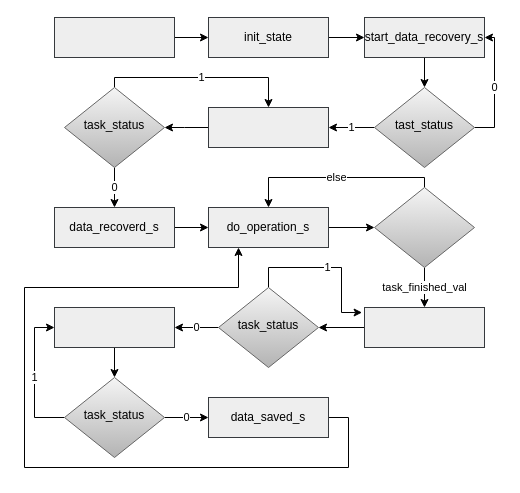
Some shapes in this 520 by 493 pixel diagram are drawn without their labels. Here are the shapes that lost their labels. From the top down, the centre of each, then its label:
the point at 114,37: shutdown_s
the point at 268,127: recovery_s
the point at 424,227: volatile_ counter_1
the point at 114,327: data_save_s
the point at 424,327: start_data_save_s
